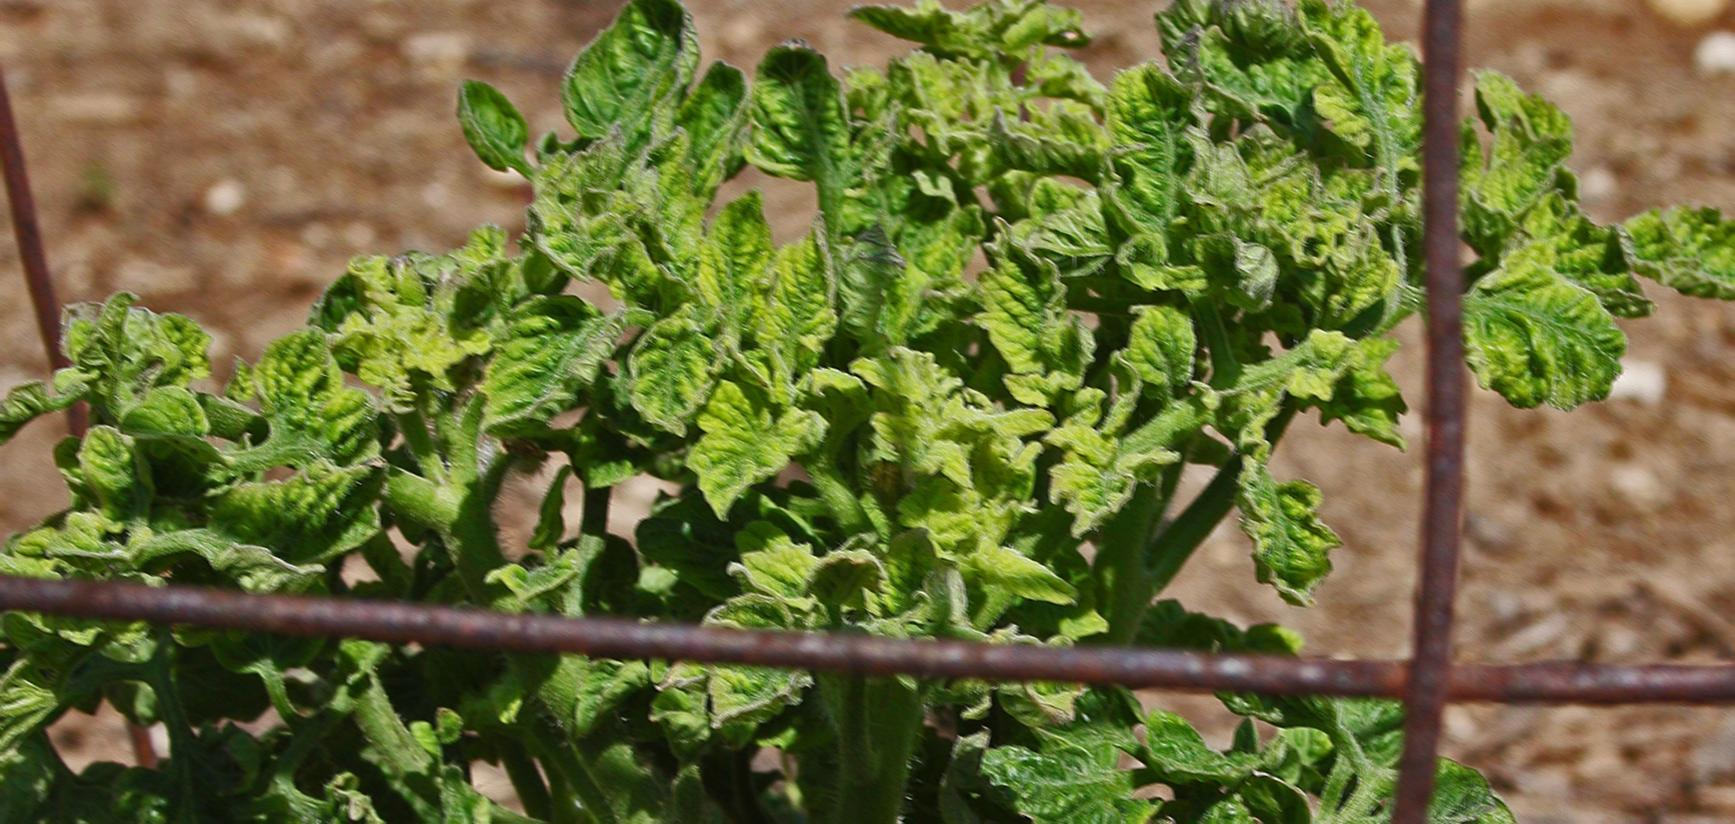Tomato leaf yellow virus: (1450, 264, 1635, 448), (156, 455, 388, 590), (539, 0, 733, 161), (728, 14, 889, 199), (460, 296, 635, 451), (978, 219, 1092, 439), (1288, 0, 1414, 180), (969, 724, 1191, 824), (1467, 92, 1594, 264), (1101, 62, 1214, 252), (619, 280, 746, 446), (683, 392, 818, 532), (1228, 451, 1344, 614), (856, 347, 976, 502), (1271, 325, 1407, 446), (752, 233, 849, 400), (697, 165, 775, 371), (1618, 192, 1735, 314), (736, 528, 889, 620), (239, 314, 360, 415), (1122, 305, 1224, 406), (1165, 766, 1324, 824), (964, 546, 1094, 616), (110, 382, 224, 452), (356, 766, 488, 824)
